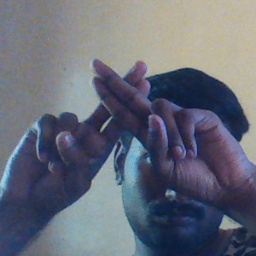F: (56, 51, 189, 172)
